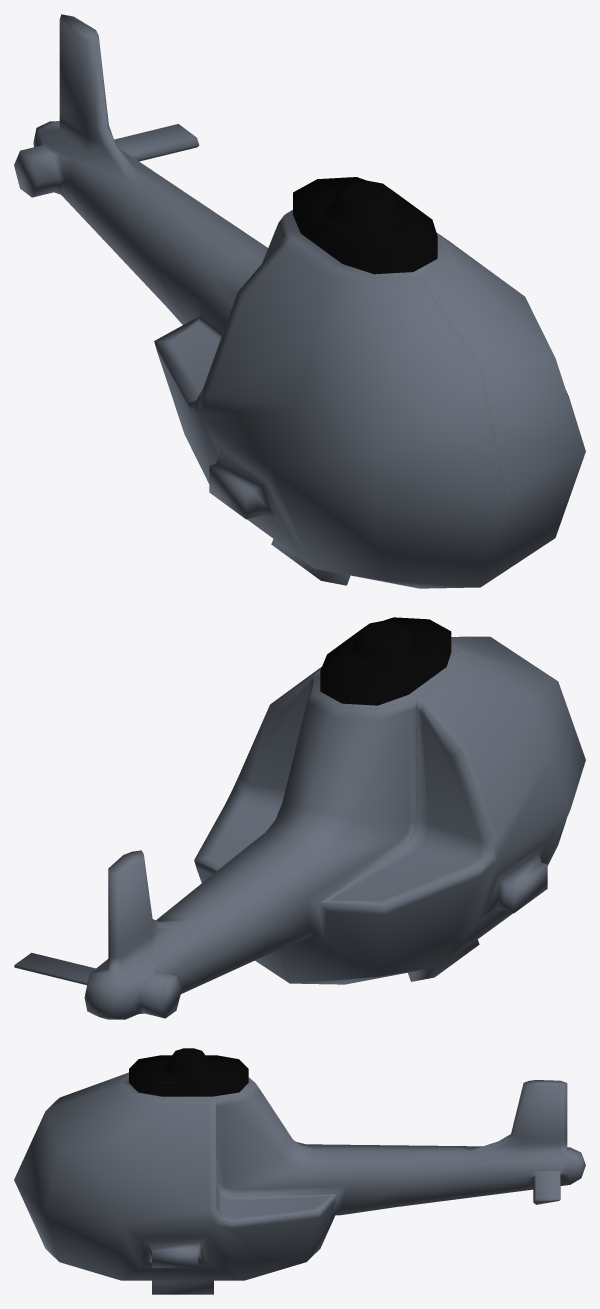
The model's file is Helicopter Body.obj.
3 views of the same model, one above another, from view 1: azimuth 30°, elevation 25°; view 2: azimuth 150°, elevation 25°; view 3: azimuth 270°, elevation 25° (orthographic). The views are drawn at different scales.
Parts seen in each view (by area): view 1: Body_Cube.010; view 2: Body_Cube.010; view 3: Body_Cube.010.
Part boxes in pixels (left/top/right/bottom): Body_Cube.010: left=14, top=14, right=585, bottom=588; Body_Cube.010: left=14, top=617, right=585, bottom=1019; Body_Cube.010: left=14, top=1048, right=585, bottom=1294.
Bounding box in the file's own units: 3.46 × 4 × 9.25.
1 material, 1 textured.
